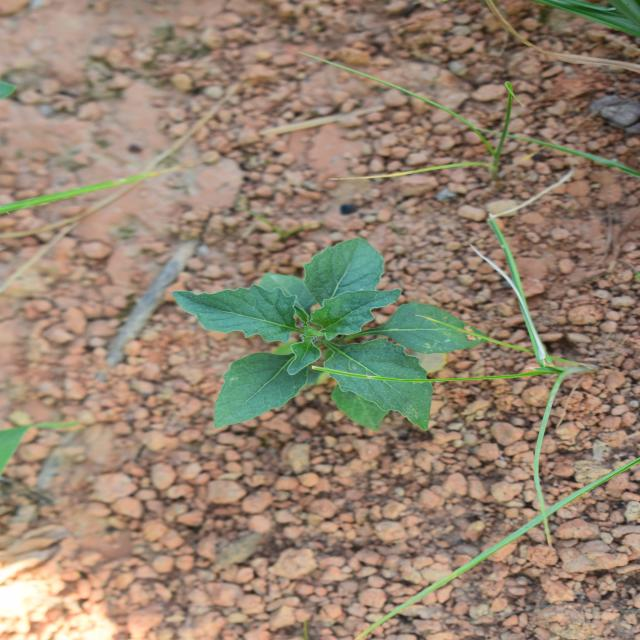Black_nightshade: (181, 135, 402, 463)
